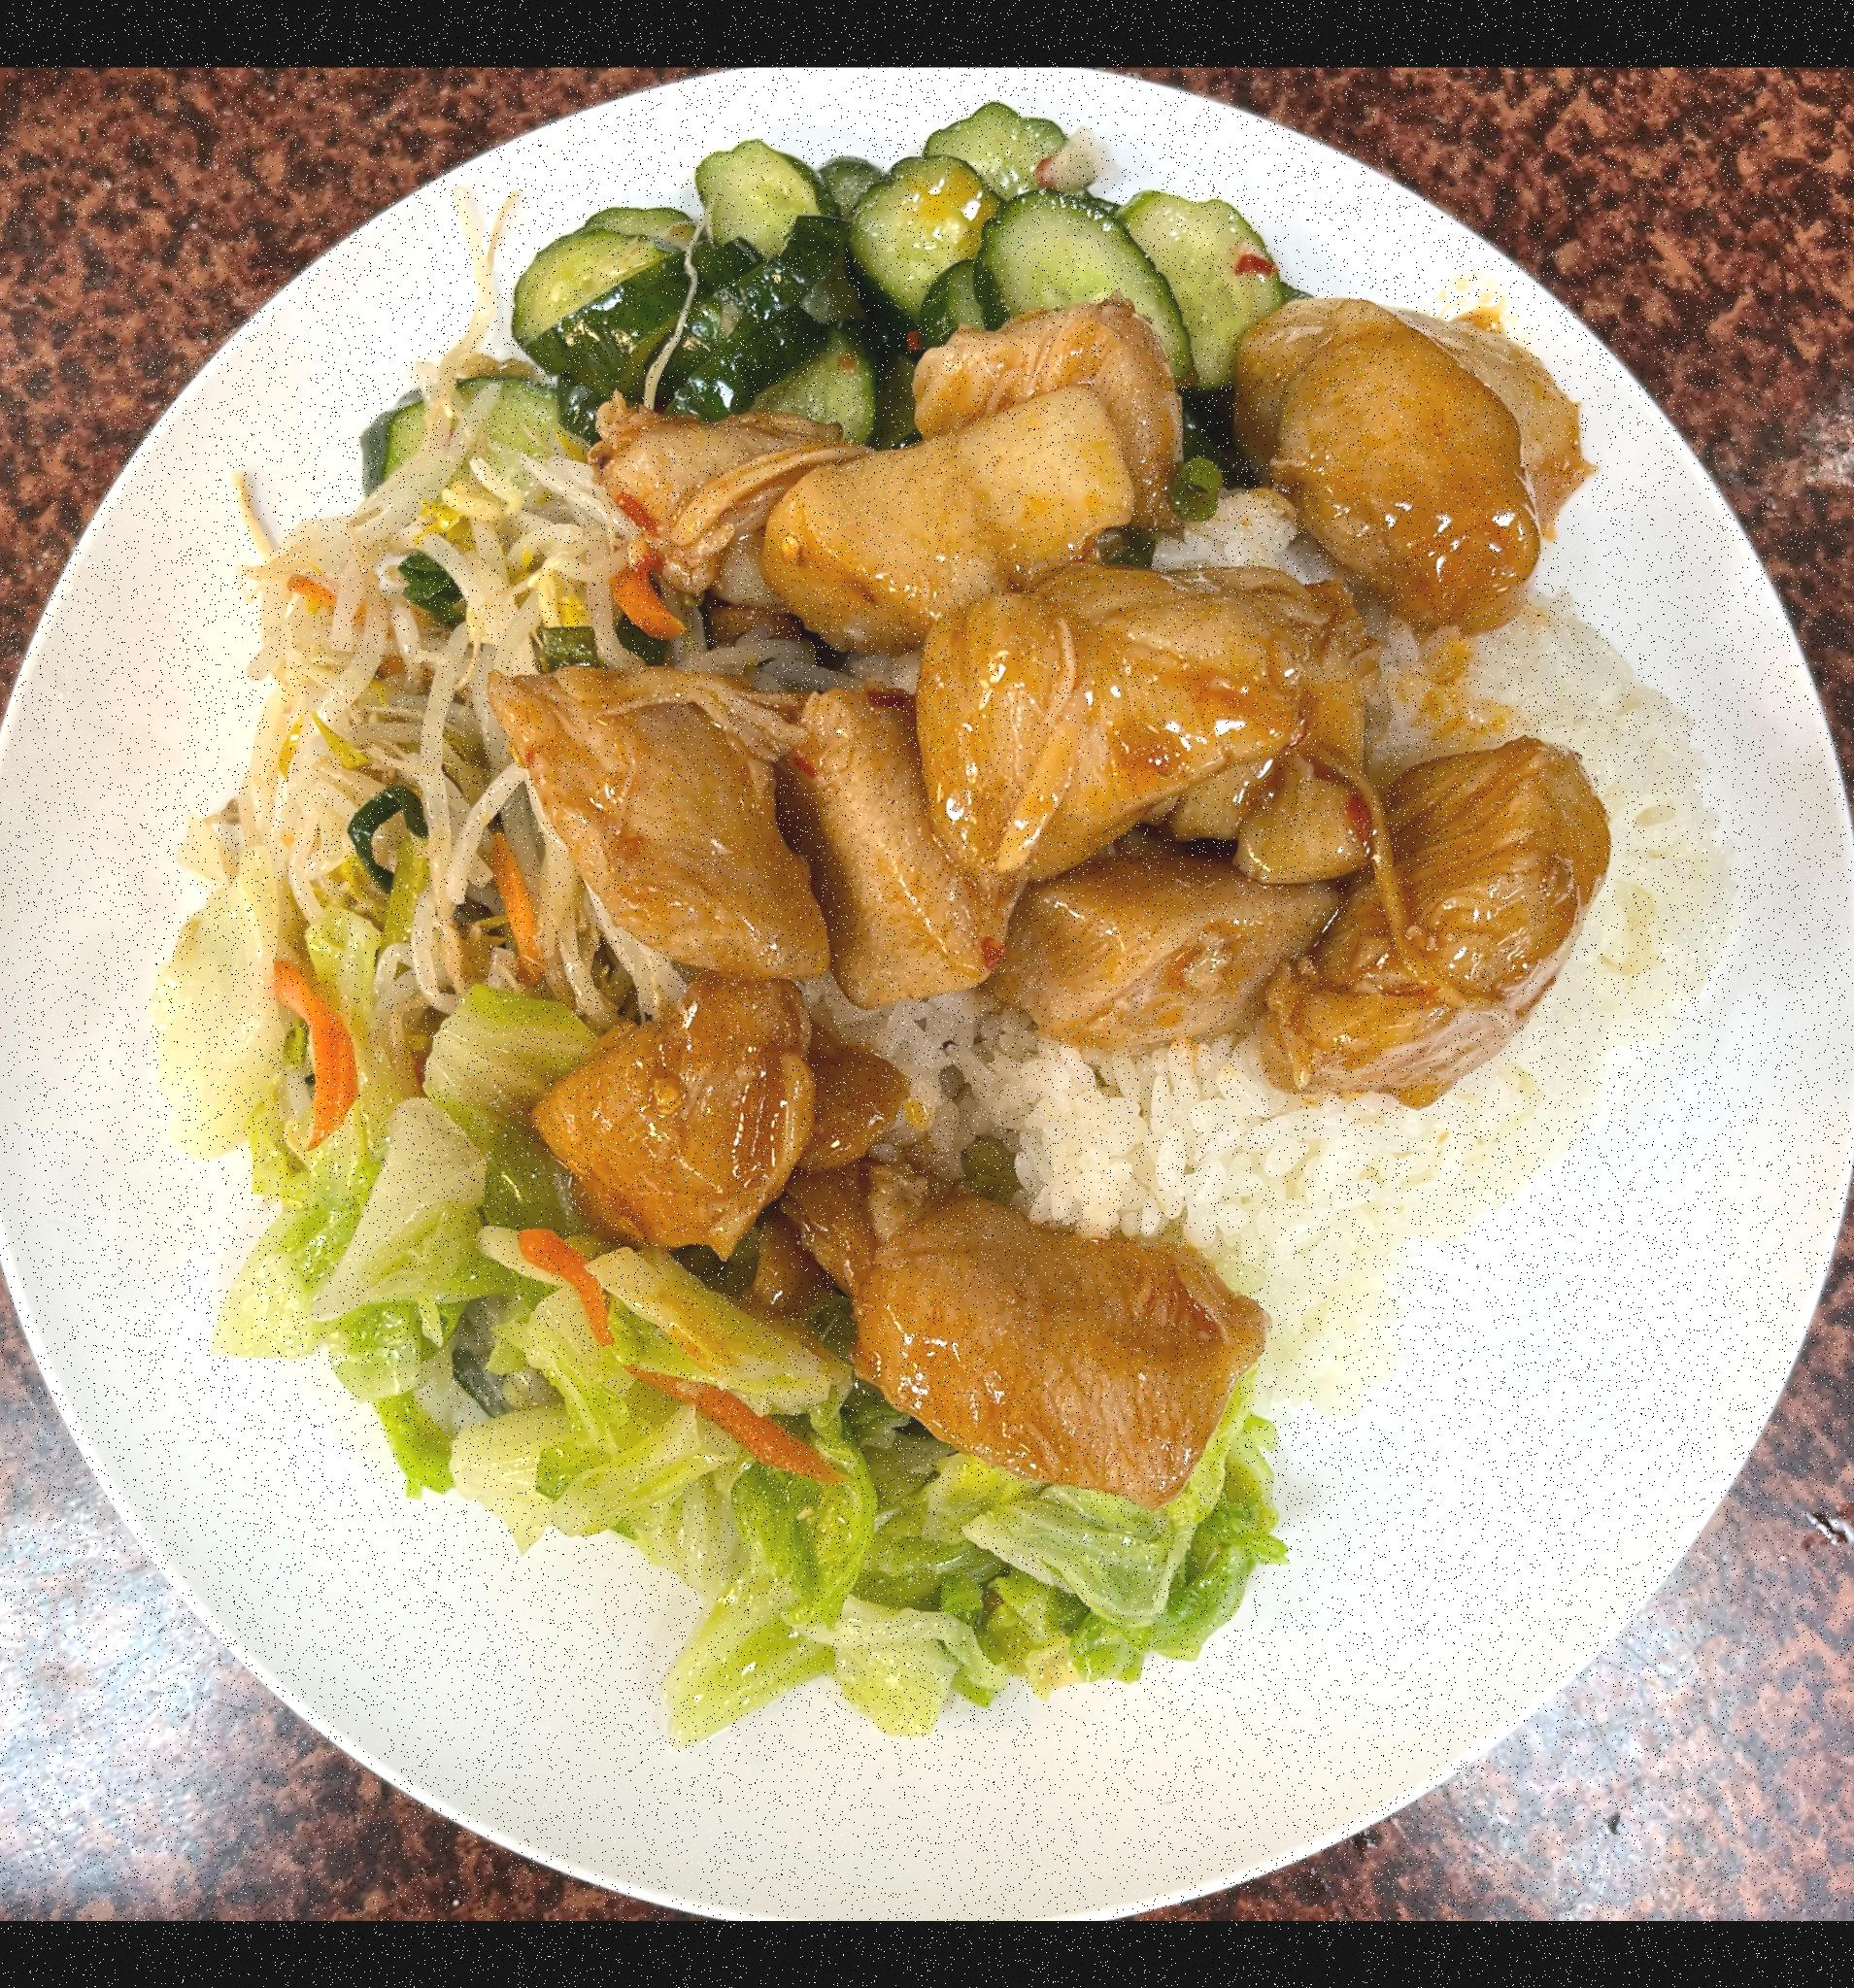plate: (0, 66, 1854, 1901)
side dish: (368, 1030, 1281, 1730), (533, 124, 1300, 446), (227, 432, 652, 920)
spicy chicken: (511, 314, 1582, 1521)
white rice: (976, 589, 1755, 1349)
